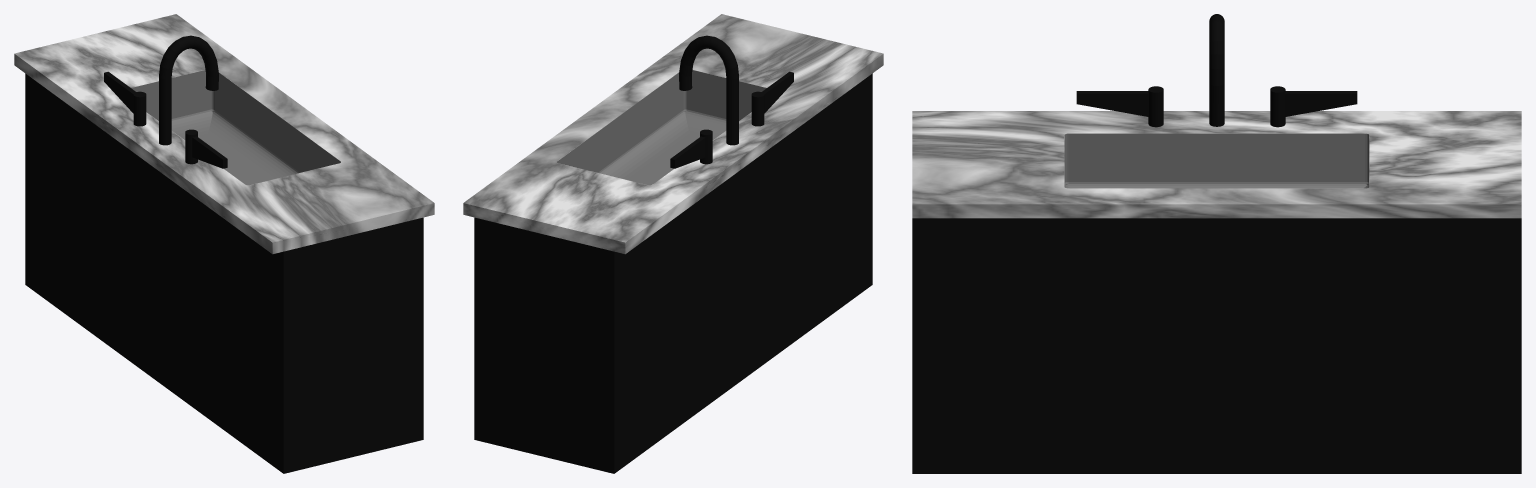
File: counter-sink.fbx
3 views of the same model, side by side, from view 1: azimuth 30°, elevation 25°; view 2: azimuth 150°, elevation 25°; view 3: azimuth 270°, elevation 25° (orthographic). The views are drawn at different scales.
Visible parts, largest first — view 1: Counter, Faucet, HandleRight, HandleLeft; view 2: Counter, Faucet, HandleLeft, HandleRight; view 3: Counter, HandleRight, HandleLeft, Faucet.
Part boxes in pixels (bbox=[...]): Counter: bbox=[14, 14, 434, 473]; Faucet: bbox=[159, 35, 218, 145]; HandleRight: bbox=[104, 71, 146, 126]; HandleLeft: bbox=[185, 129, 227, 168]; Counter: bbox=[463, 14, 883, 473]; Faucet: bbox=[679, 35, 738, 145]; HandleLeft: bbox=[751, 71, 793, 126]; HandleRight: bbox=[670, 129, 712, 168]; Counter: bbox=[912, 111, 1521, 473]; HandleRight: bbox=[1270, 86, 1357, 127]; HandleLeft: bbox=[1076, 86, 1163, 127]; Faucet: bbox=[1209, 14, 1224, 126].
Size of the model in its own units: 145 by 286 by 400.
4 materials, 1 textured.
